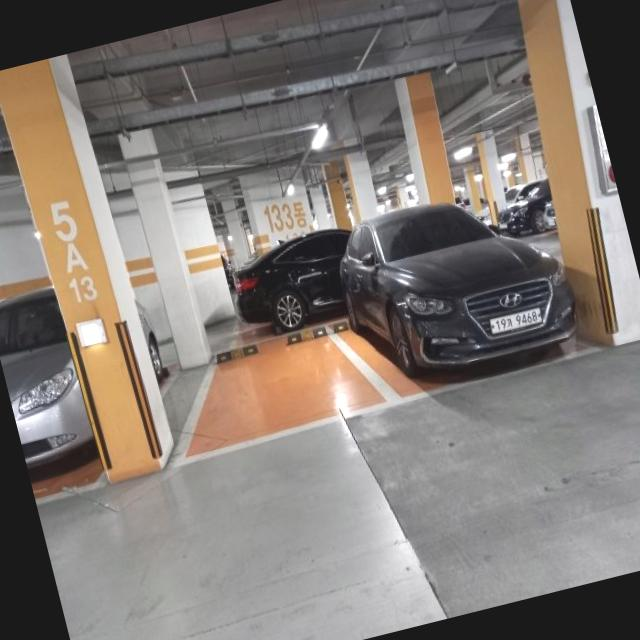car: (325, 167, 584, 394)
free: (157, 314, 386, 468)
